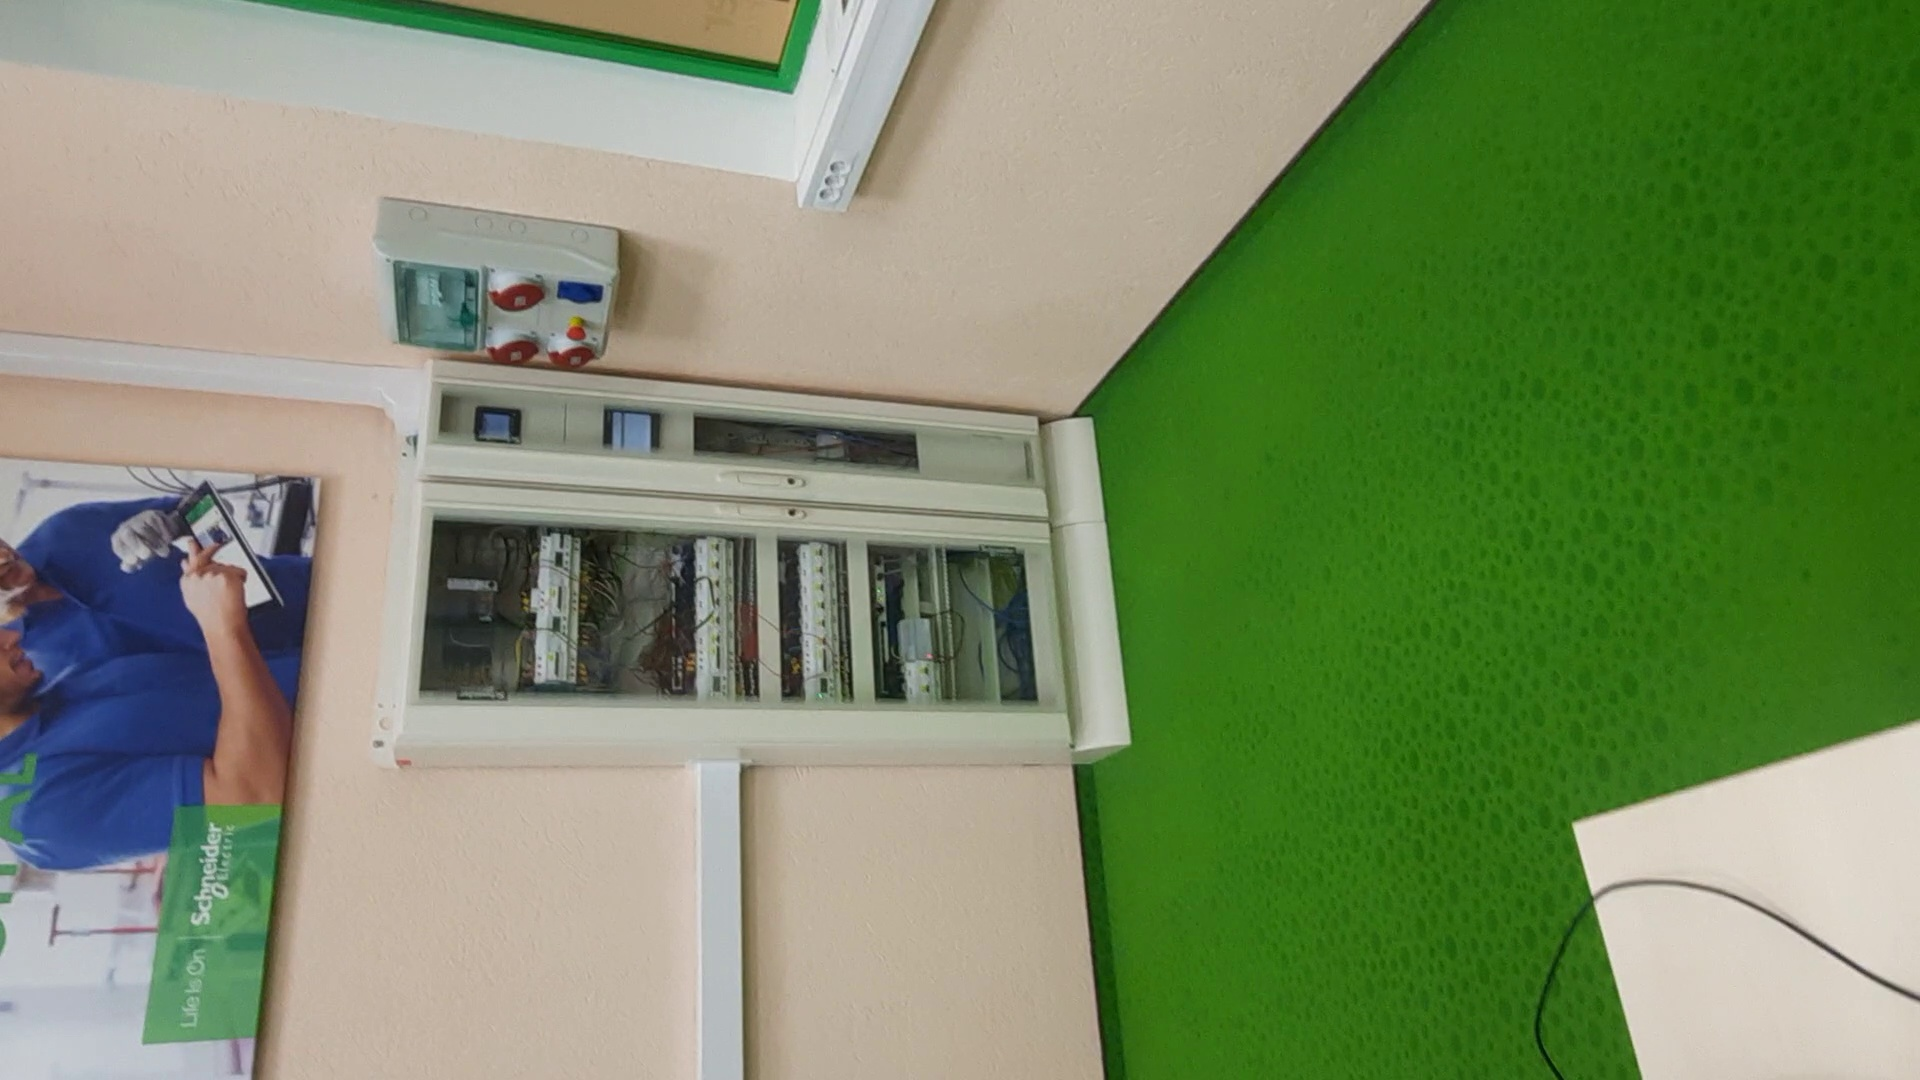stand1: (394, 360, 1131, 770)
